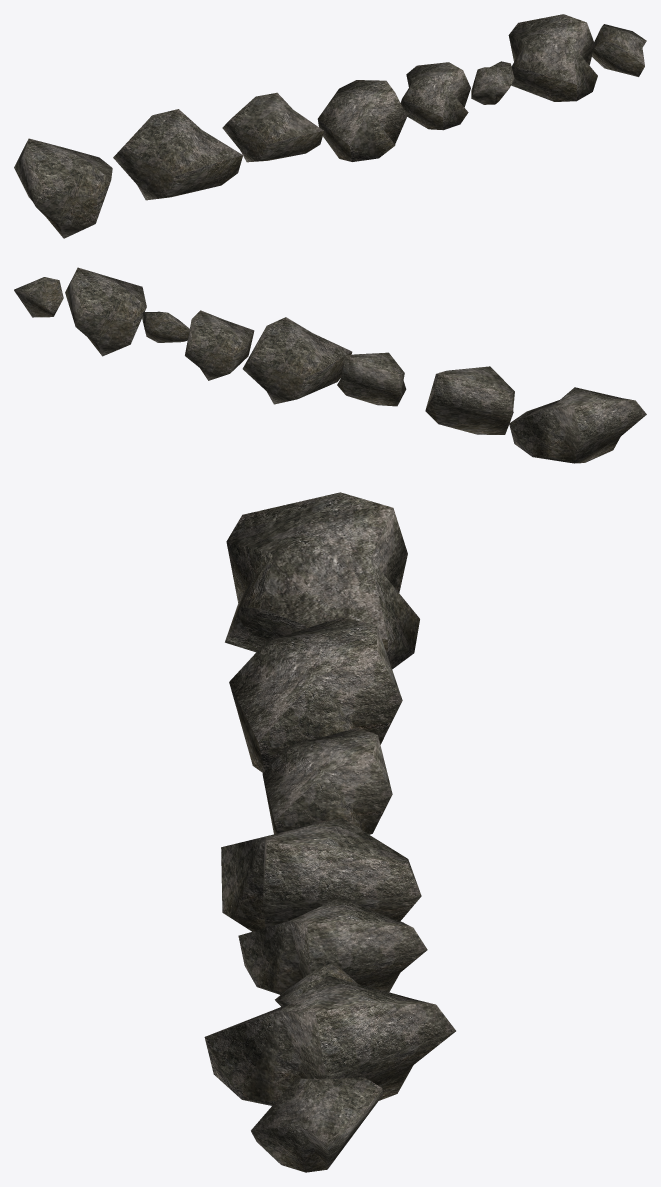
Rendered from Curb.dae.
3 renders of one model, top to bottom at view 1: azimuth 30°, elevation 25°; view 2: azimuth 150°, elevation 25°; view 3: azimuth 270°, elevation 25°, orthographic. The views are drawn at different scales.
Parts seen in each view (by area): view 1: curb; view 2: curb; view 3: curb.
Part boxes in pixels (x1,y1,x2,y2): curb: (14,14,646,238); curb: (14,267,646,463); curb: (204,492,455,1172).
Size of the model in its own units: 3.94 by 0.4725 by 0.7057.
Materials: 1 (1 with a texture image).
